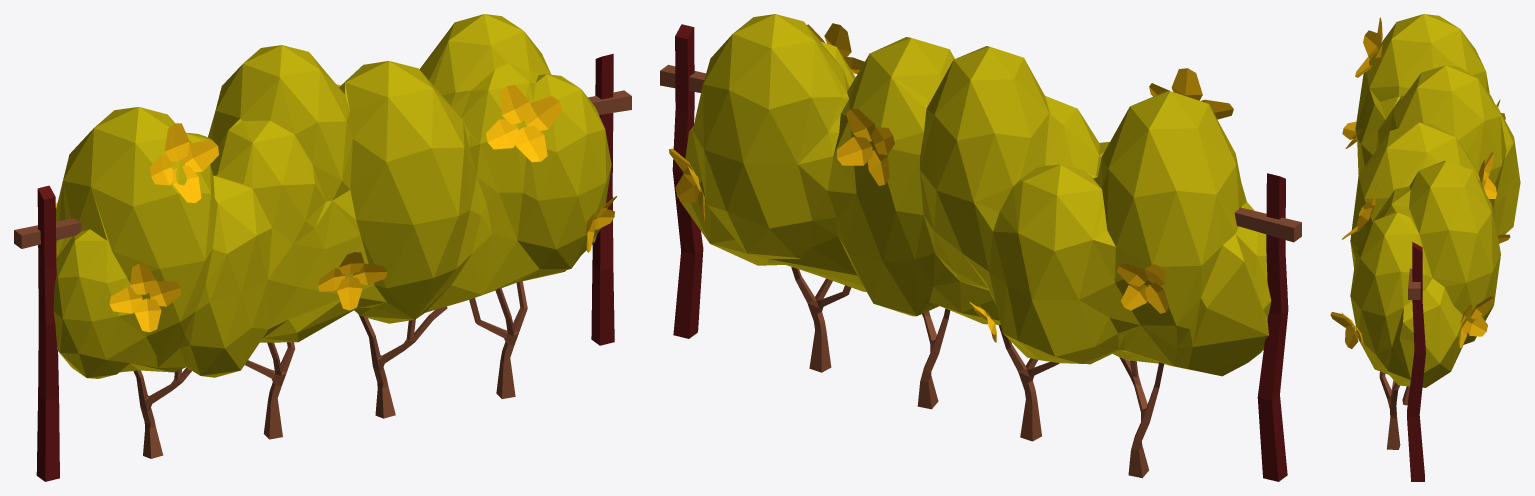
File: village_pack_flower_2.glb
3 renders of one model, left to right at view 1: azimuth 30°, elevation 25°; view 2: azimuth 150°, elevation 25°; view 3: azimuth 270°, elevation 25°, orthographic. The views are drawn at different scales.
Parts seen in each view (by area): view 1: flower 2_flower 1_0; view 2: flower 2_flower 1_0; view 3: flower 2_flower 1_0.
Boxes of the visible parts, <box> form: flower 2_flower 1_0: <box>14,14,631,481</box>; flower 2_flower 1_0: <box>660,14,1301,481</box>; flower 2_flower 1_0: <box>1330,14,1520,481</box>.
Size of the model in its own units: 5.96 by 3.53 by 1.99.
